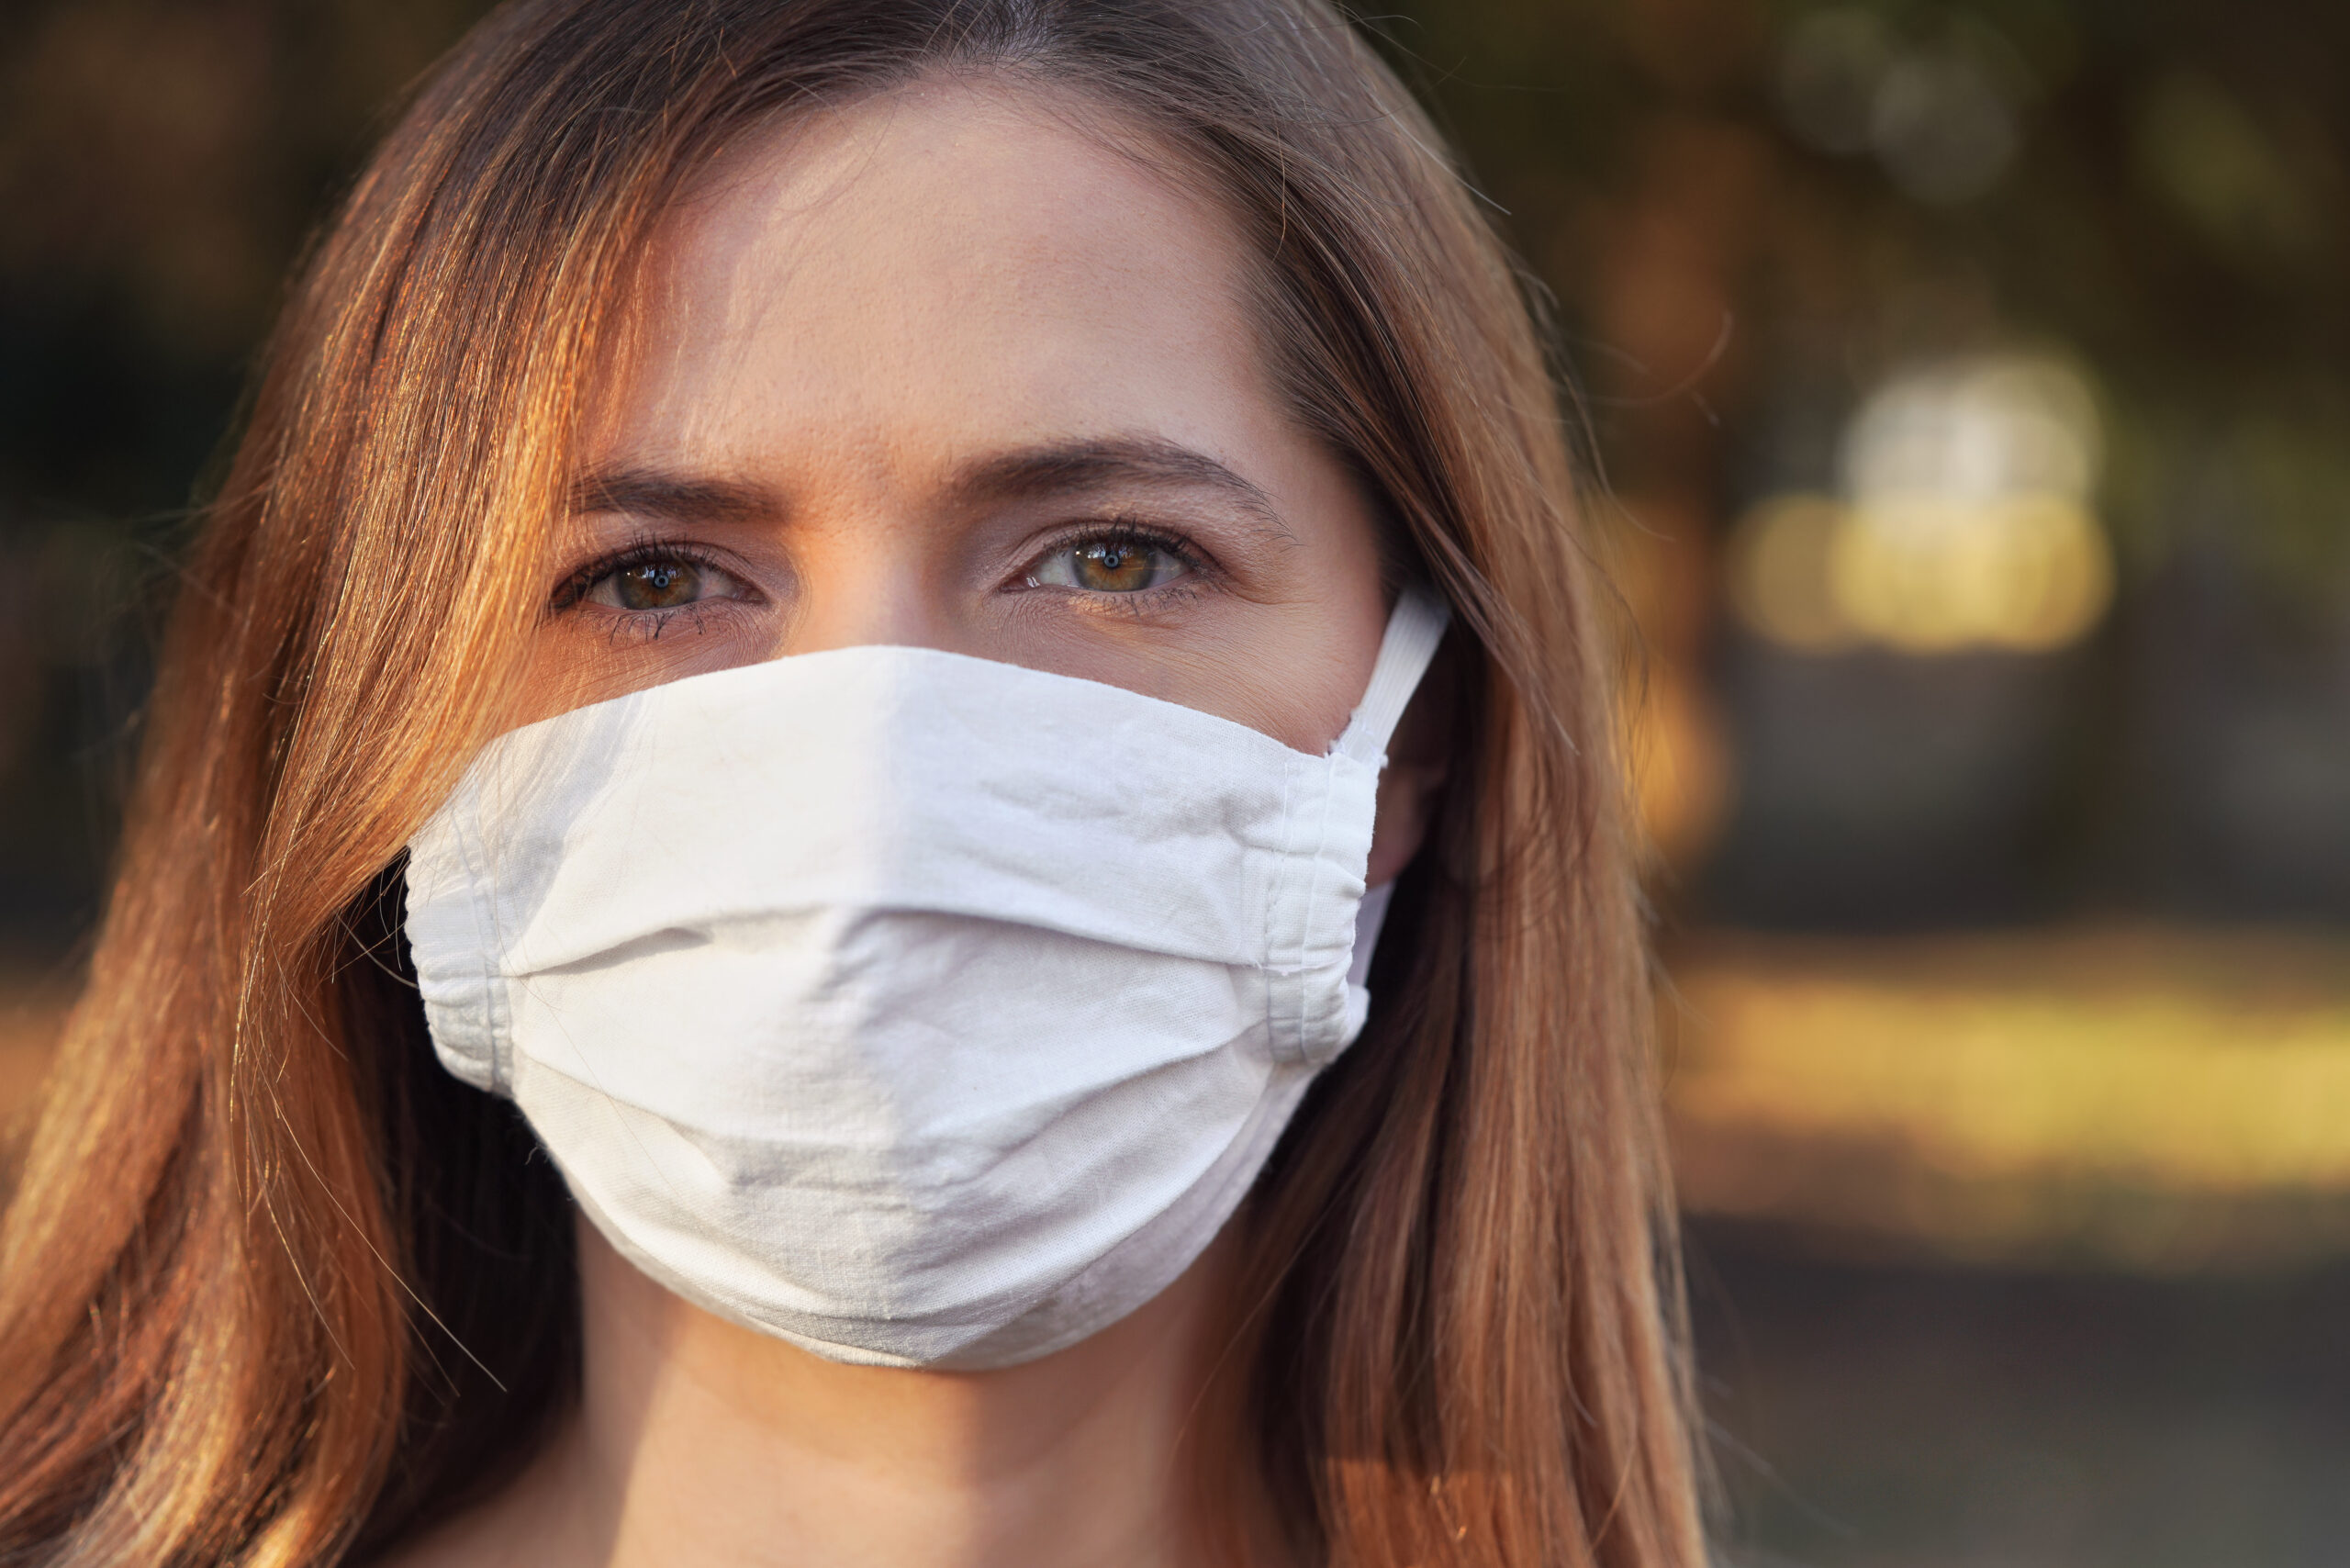with_mask: (421, 103, 1325, 1318)
